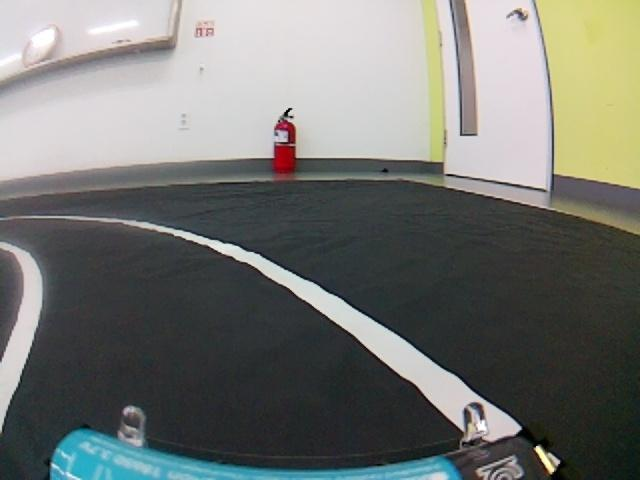left: (0, 202, 640, 480)
